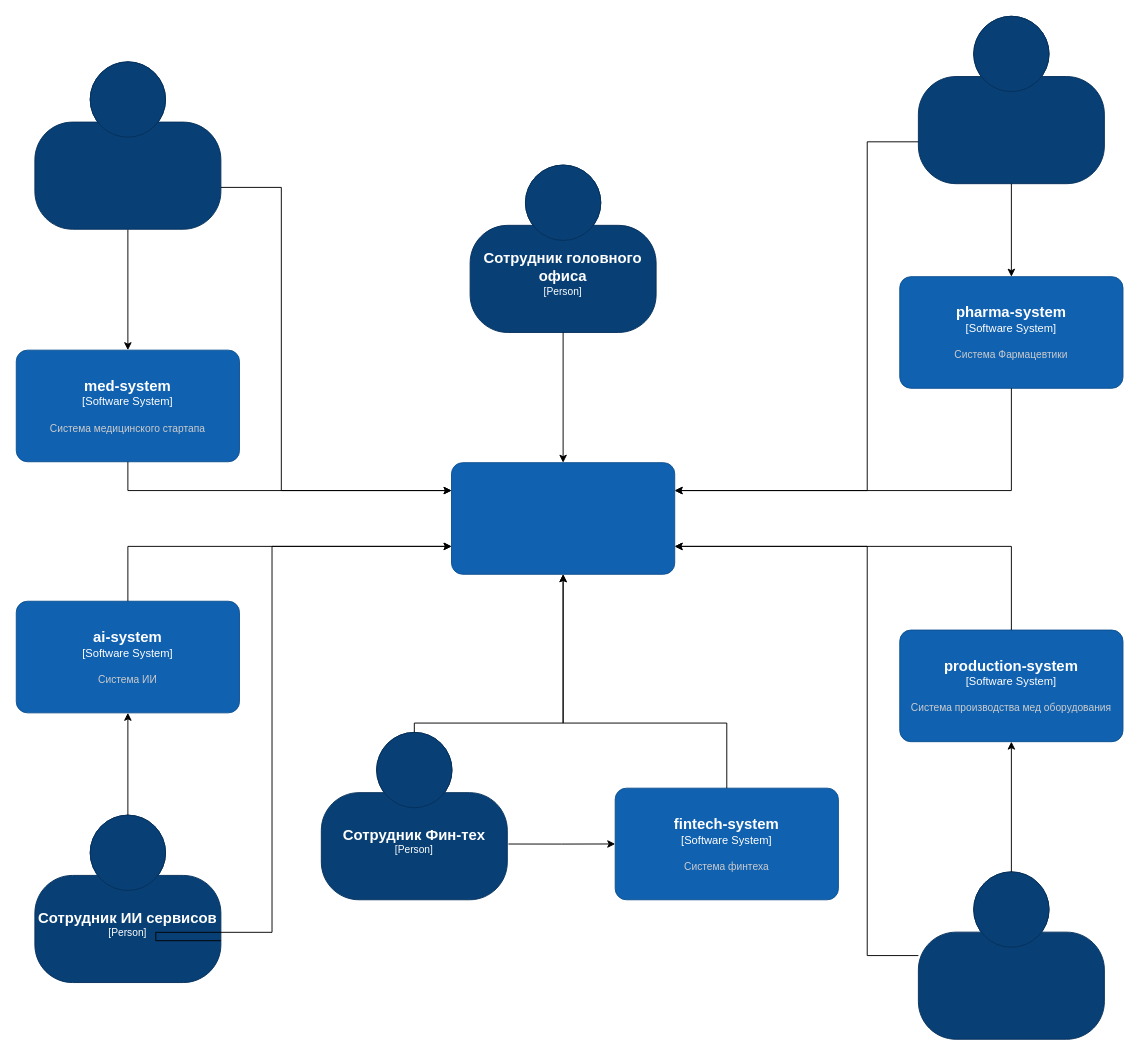
Image size: 1139x1056. Some labels were removed from this diagram. Here are the shapes that lost their labels. From the top down, the centre of each, then its label:
At pixel 1010 99: "Сотрудник Фармацевтики [Person]".
At pixel 127 145: "Медработник [Person]".
At pixel 563 518: "Data mesh [Software System] Витрина данных".
At pixel 1010 955: "Сотрудник производства [Person]".
